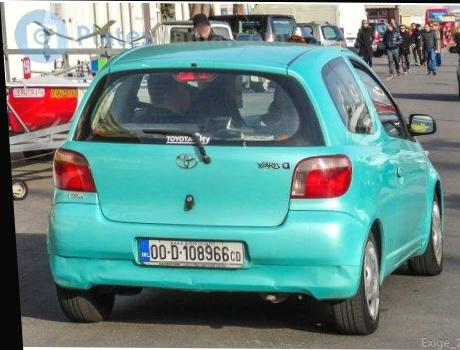License_Plate: (132, 233, 256, 275)
